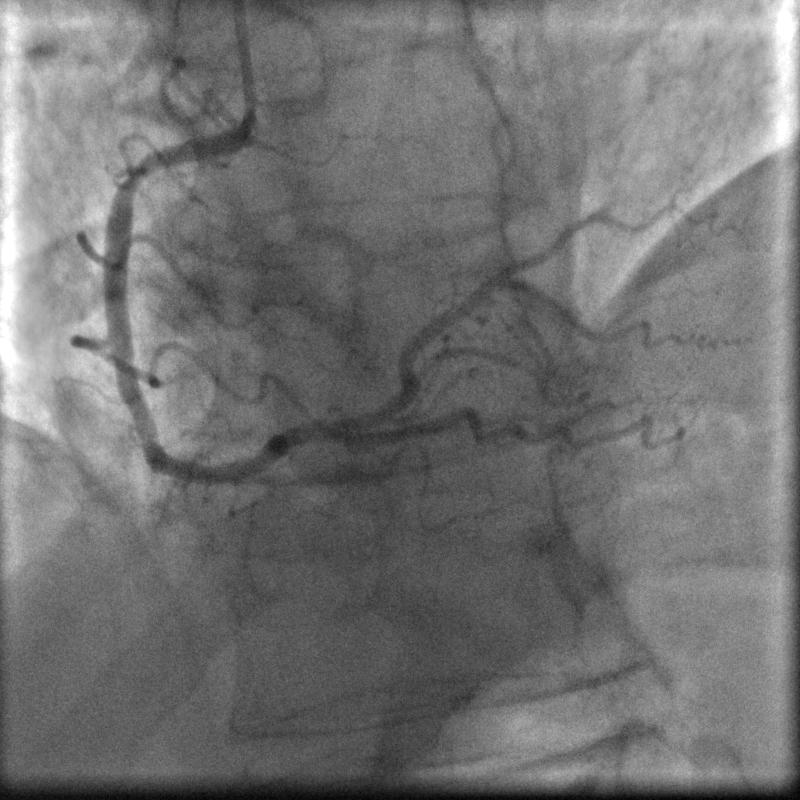Stenosis: (113, 159, 157, 190)
